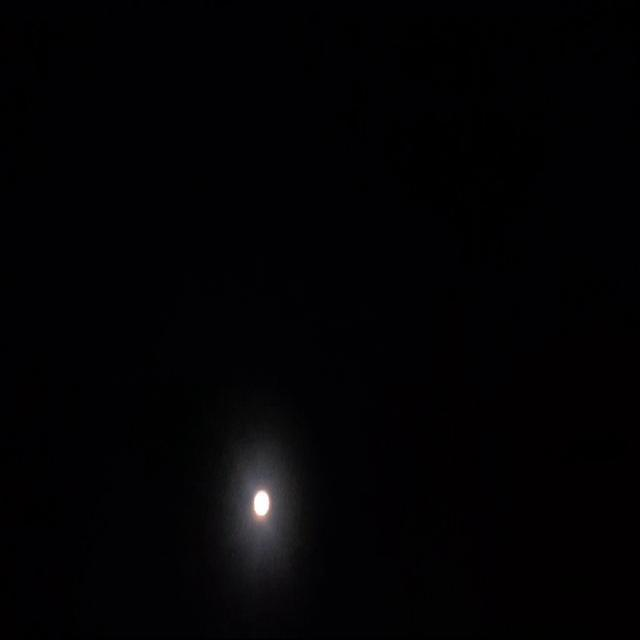moon: (249, 489, 272, 523)
